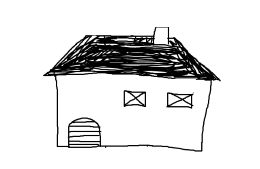chimney: (150, 21, 175, 50)
closed_window: (164, 88, 195, 113), (119, 88, 149, 110)
door: (64, 113, 104, 153)
shaded_roof: (42, 35, 220, 81)
wall: (53, 70, 212, 155)
